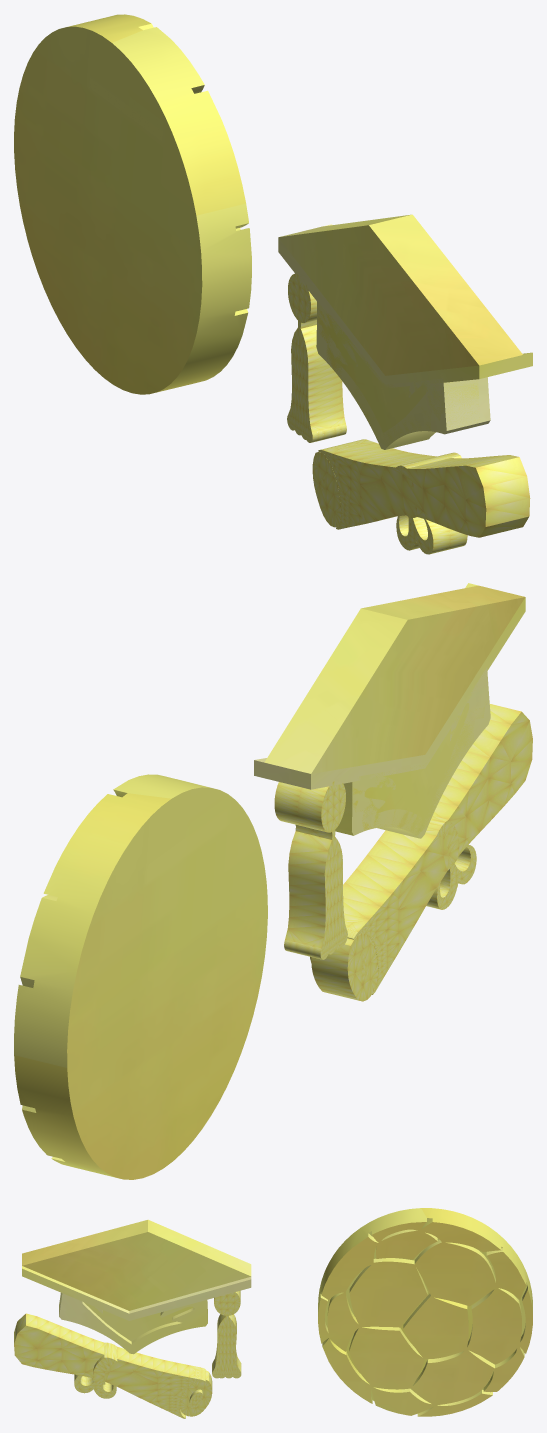
Rendered from graphs.glb.
The picture shows the model from 3 angles, top to bottom: view 1: azimuth 30°, elevation 25°; view 2: azimuth 150°, elevation 25°; view 3: azimuth 270°, elevation 25°; orthographic projection. The views are drawn at different scales.
Parts seen in each view (by area): view 1: soccer_ball, graduate; view 2: soccer_ball, graduate; view 3: soccer_ball, graduate.
Boxes of the visible parts, <box> form: soccer_ball: <box>14,14,251,394</box>; graduate: <box>278,214,532,554</box>; soccer_ball: <box>14,774,267,1179</box>; graduate: <box>254,583,532,1001</box>; soccer_ball: <box>318,1208,532,1416</box>; graduate: <box>14,1219,251,1418</box>.
Bounding box in the file's own units: 1.43 × 6.51 × 15.73.
1 material, 1 textured.
